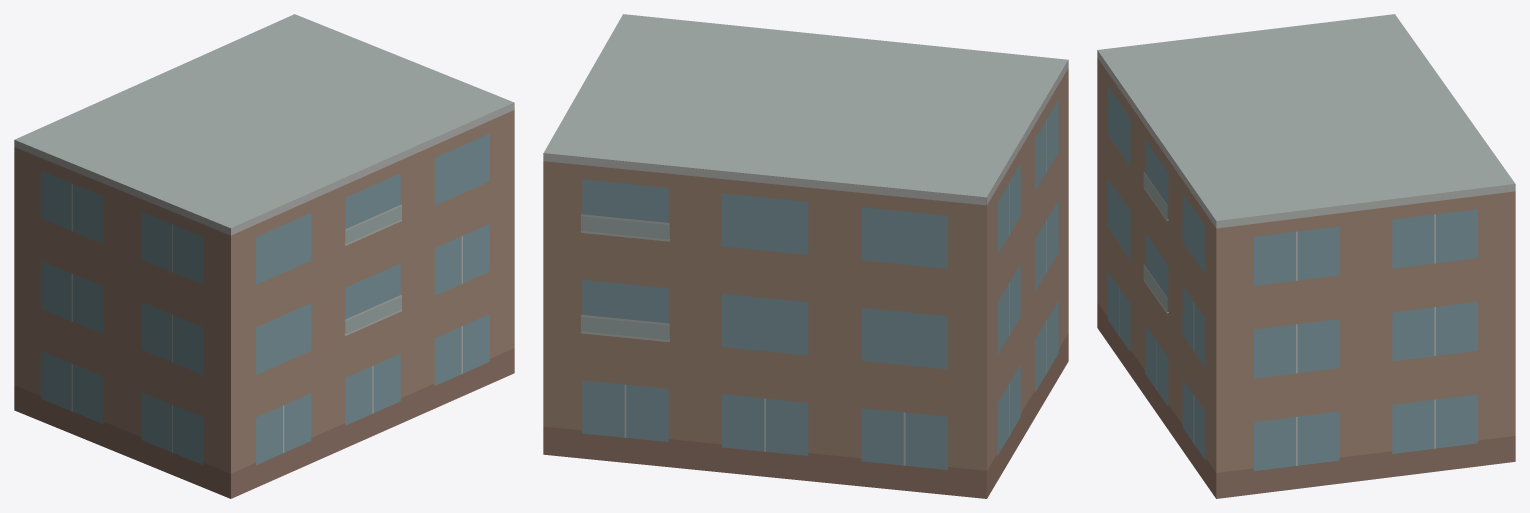
File: survey-upis-32762056.glb
The picture shows the model from 3 angles, left to right: view 1: azimuth 30°, elevation 25°; view 2: azimuth 150°, elevation 25°; view 3: azimuth 270°, elevation 25°; orthographic projection. The views are drawn at different scales.
Visible parts, largest first — view 1: survey-upis-32762056.tmp; view 2: survey-upis-32762056.tmp; view 3: survey-upis-32762056.tmp.
Boxes of the visible parts, x1,y1,x2,y2 form: survey-upis-32762056.tmp: (14, 14, 514, 498); survey-upis-32762056.tmp: (543, 14, 1068, 498); survey-upis-32762056.tmp: (1097, 14, 1515, 498).
Size of the model in its own units: 14.64 by 9.15 by 12.5.
